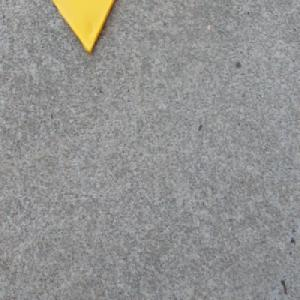PlasticPart: (53, 0, 117, 56)
